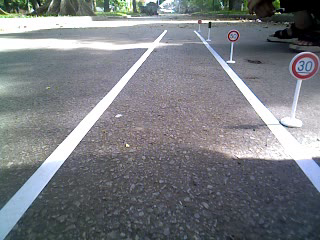limit 30: (288, 48, 320, 80)
limit 50: (226, 29, 241, 43)
